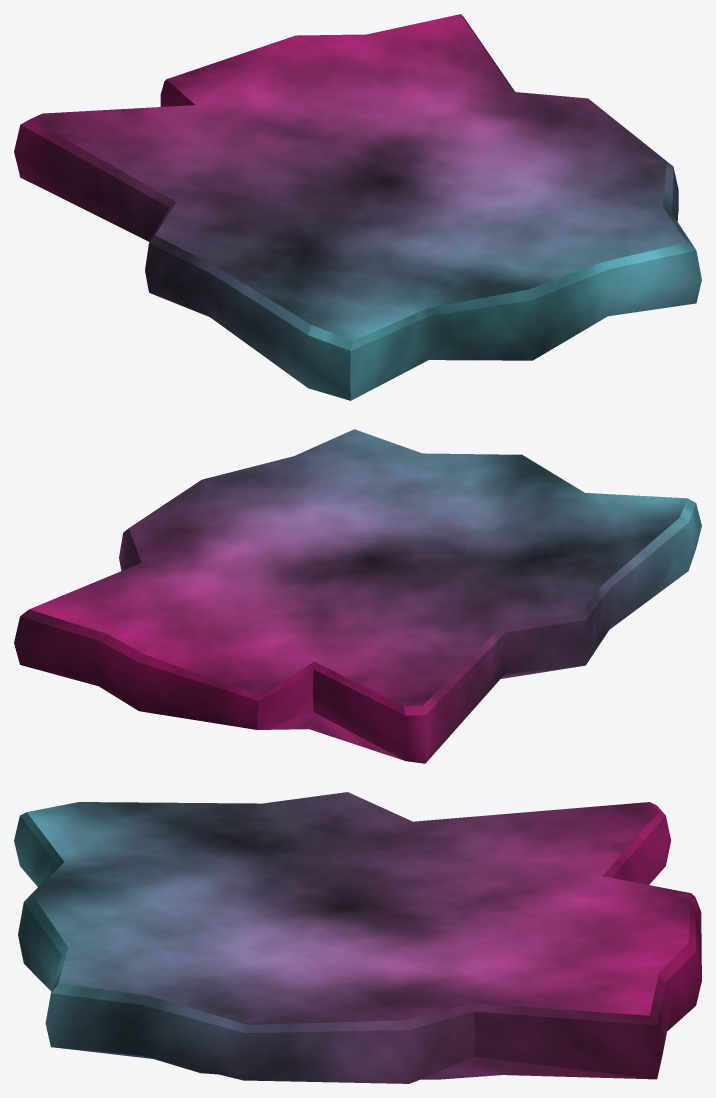
Rendered from envPlat3Broken.fbx.
3 renders of one model, top to bottom at view 1: azimuth 30°, elevation 25°; view 2: azimuth 150°, elevation 25°; view 3: azimuth 270°, elevation 25°, orthographic. The views are drawn at different scales.
Parts seen in each view (by area): view 1: envPlat3BrokenMain; view 2: envPlat3BrokenMain; view 3: envPlat3BrokenMain.
Part boxes in pixels (x1=…): envPlat3BrokenMain: x1=14, y1=14, x2=701, y2=400; envPlat3BrokenMain: x1=14, y1=429, x2=701, y2=763; envPlat3BrokenMain: x1=14, y1=792, x2=701, y2=1083.
Bounding box in the file's own units: 0.1199 × 0.0342 × 0.1452.
